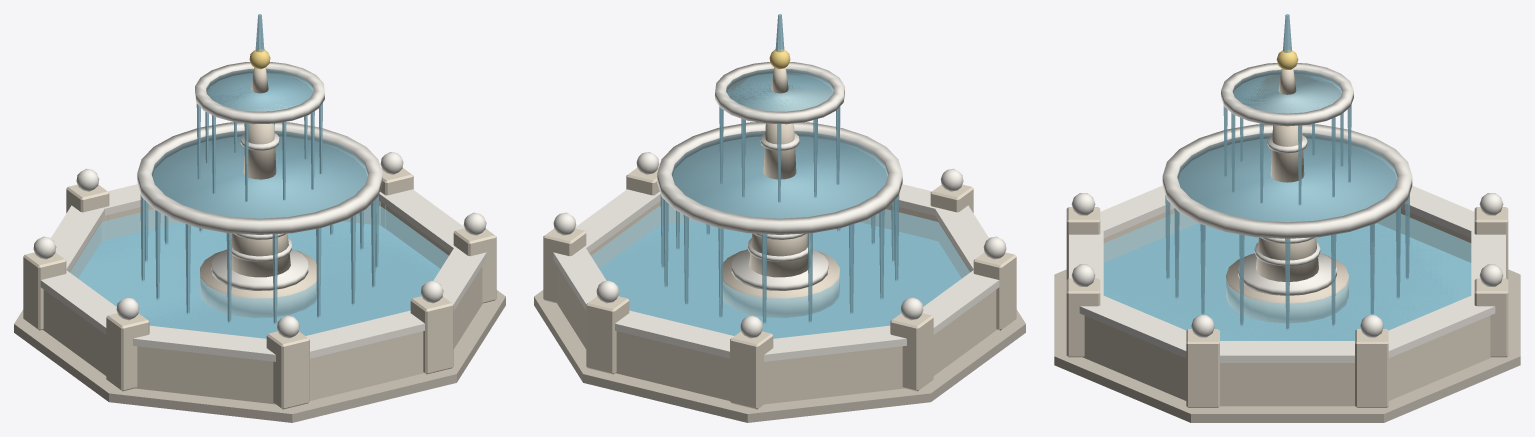
File: fountain.glb
The picture shows the model from 3 angles, left to right: view 1: azimuth 30°, elevation 25°; view 2: azimuth 150°, elevation 25°; view 3: azimuth 270°, elevation 25°; orthographic projection.
Parts seen in each view (by area): view 1: fountain; view 2: fountain; view 3: fountain.
Boxes of the visible parts, <box> form: fountain: <box>14,14,505,422</box>; fountain: <box>534,14,1025,422</box>; fountain: <box>1054,14,1520,422</box>.
Bounding box in the file's own units: 4.71 × 3.45 × 4.71.
